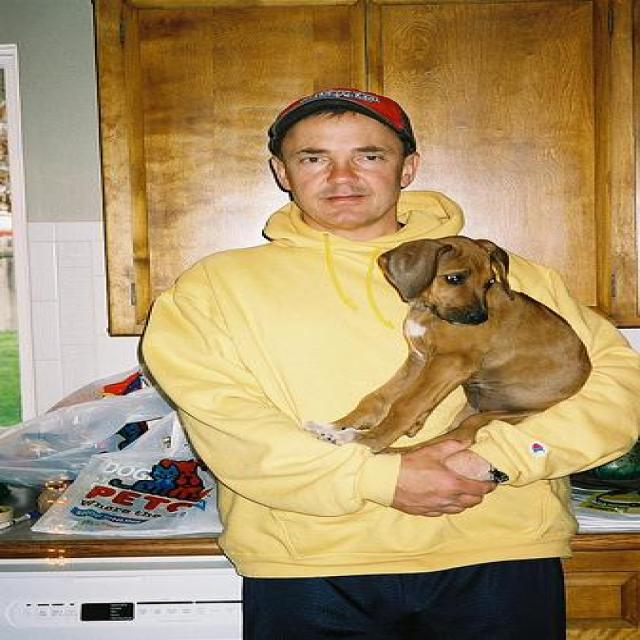rhodesian_ridgeback: (304, 235, 590, 456)
